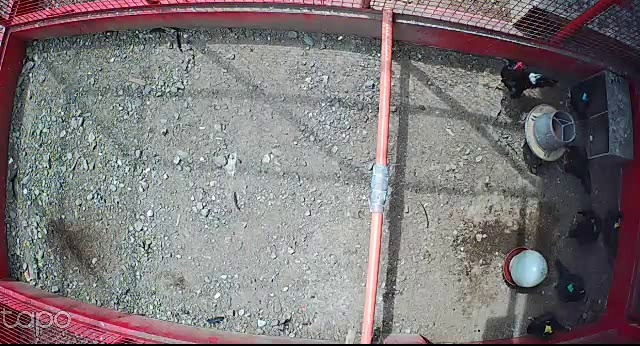Chicken: (561, 146, 599, 202), (551, 258, 594, 307), (561, 76, 600, 129), (525, 310, 577, 343), (601, 208, 629, 268), (562, 209, 602, 247)
Drinker: (502, 246, 548, 291)
Feeder: (525, 103, 578, 162)
Rooster: (492, 53, 561, 102)
Saddle_Color_Blue: (582, 93, 589, 102)
Saddle_Color_Yellow: (544, 324, 553, 332)
